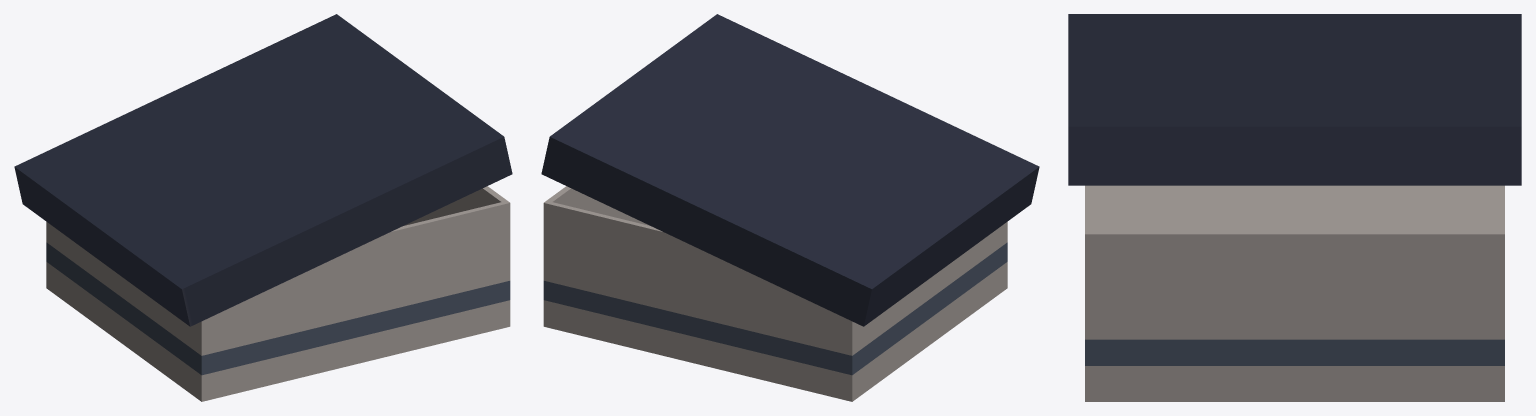
The model's file is Prop_SmallStorageBox_03.fbx.
3 views of the same model, side by side, from view 1: azimuth 30°, elevation 25°; view 2: azimuth 150°, elevation 25°; view 3: azimuth 270°, elevation 25° (orthographic). The views are drawn at different scales.
Parts seen in each view (by area): view 1: Prop_SmallStorageBox_03; view 2: Prop_SmallStorageBox_03; view 3: Prop_SmallStorageBox_03.
Part boxes in pixels (x1,y1,x2,y2): Prop_SmallStorageBox_03: [14, 14, 512, 401]; Prop_SmallStorageBox_03: [541, 14, 1039, 401]; Prop_SmallStorageBox_03: [1068, 14, 1521, 401].
Bounding box in the file's own units: 35.06 × 19.77 × 30.41.
